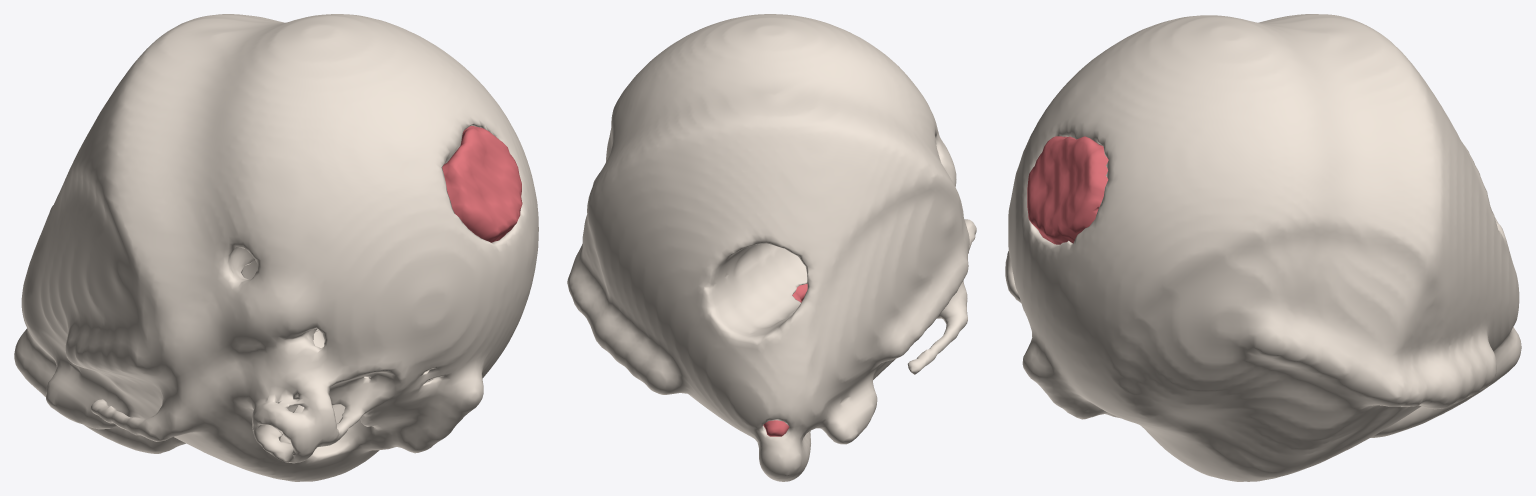
Rendered from case_04.glb.
The picture shows the model from 3 angles, left to right: view 1: azimuth 30°, elevation 25°; view 2: azimuth 150°, elevation 25°; view 3: azimuth 270°, elevation 25°; orthographic projection. The views are drawn at different scales.
Visible parts, largest first — view 1: heart, pool; view 2: heart, pool; view 3: heart, pool.
Part boxes in pixels (box(x1,y1,x2,y2)): heart: box(14, 14, 538, 481); pool: box(442, 126, 522, 242); heart: box(567, 14, 976, 481); pool: box(763, 284, 807, 436); heart: box(1005, 14, 1521, 481); pool: box(1027, 136, 1108, 244).
Size of the model in its own units: 126 by 133 by 138.
